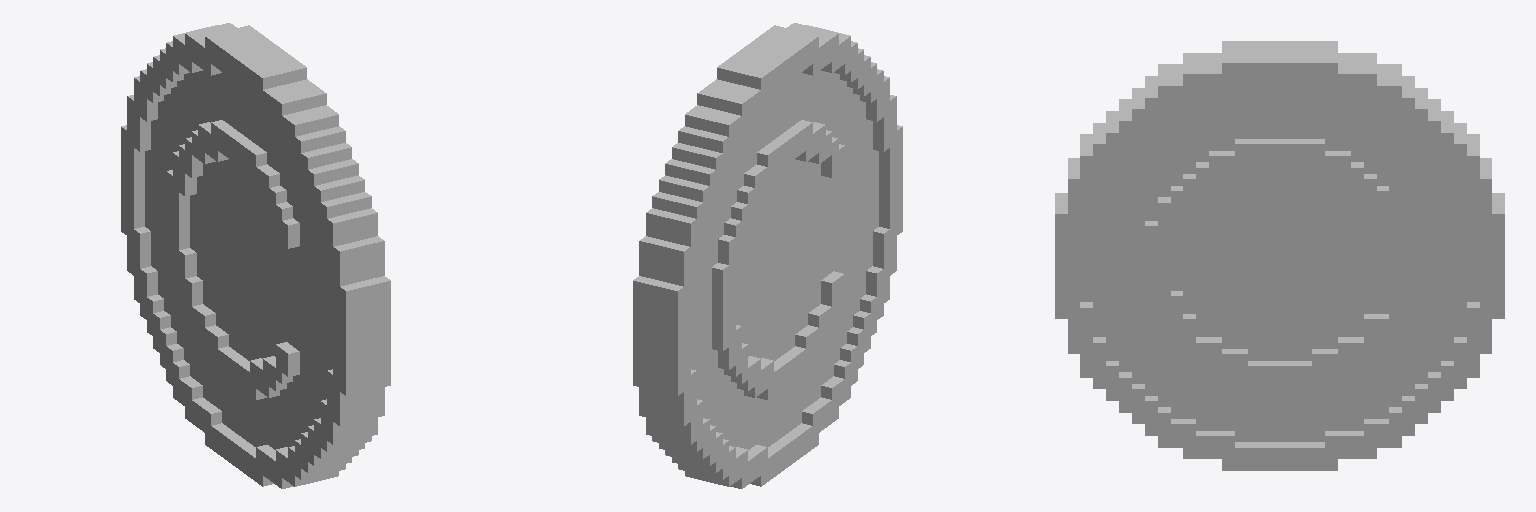
File: Coin.obj
3 renders of one model, left to right at view 1: azimuth 30°, elevation 25°; view 2: azimuth 150°, elevation 25°; view 3: azimuth 270°, elevation 25°, orthographic.
Visible parts, largest first — view 1: Coin; view 2: Coin; view 3: Coin.
Boxes of the visible parts, <box> form: Coin: <box>121,23,390,488</box>; Coin: <box>633,23,902,488</box>; Coin: <box>1055,41,1504,470</box>.
Size of the model in its own units: 4 by 35 by 35.